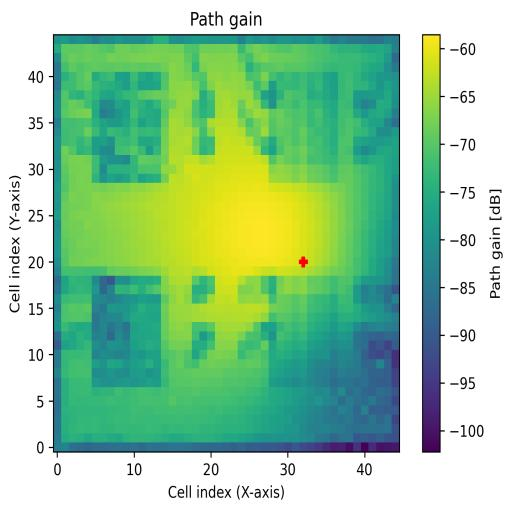Concrete: (269, 72, 338, 184)
Glass: (91, 71, 169, 184)
Metal: (270, 277, 338, 387)
Wood: (92, 276, 162, 387)
